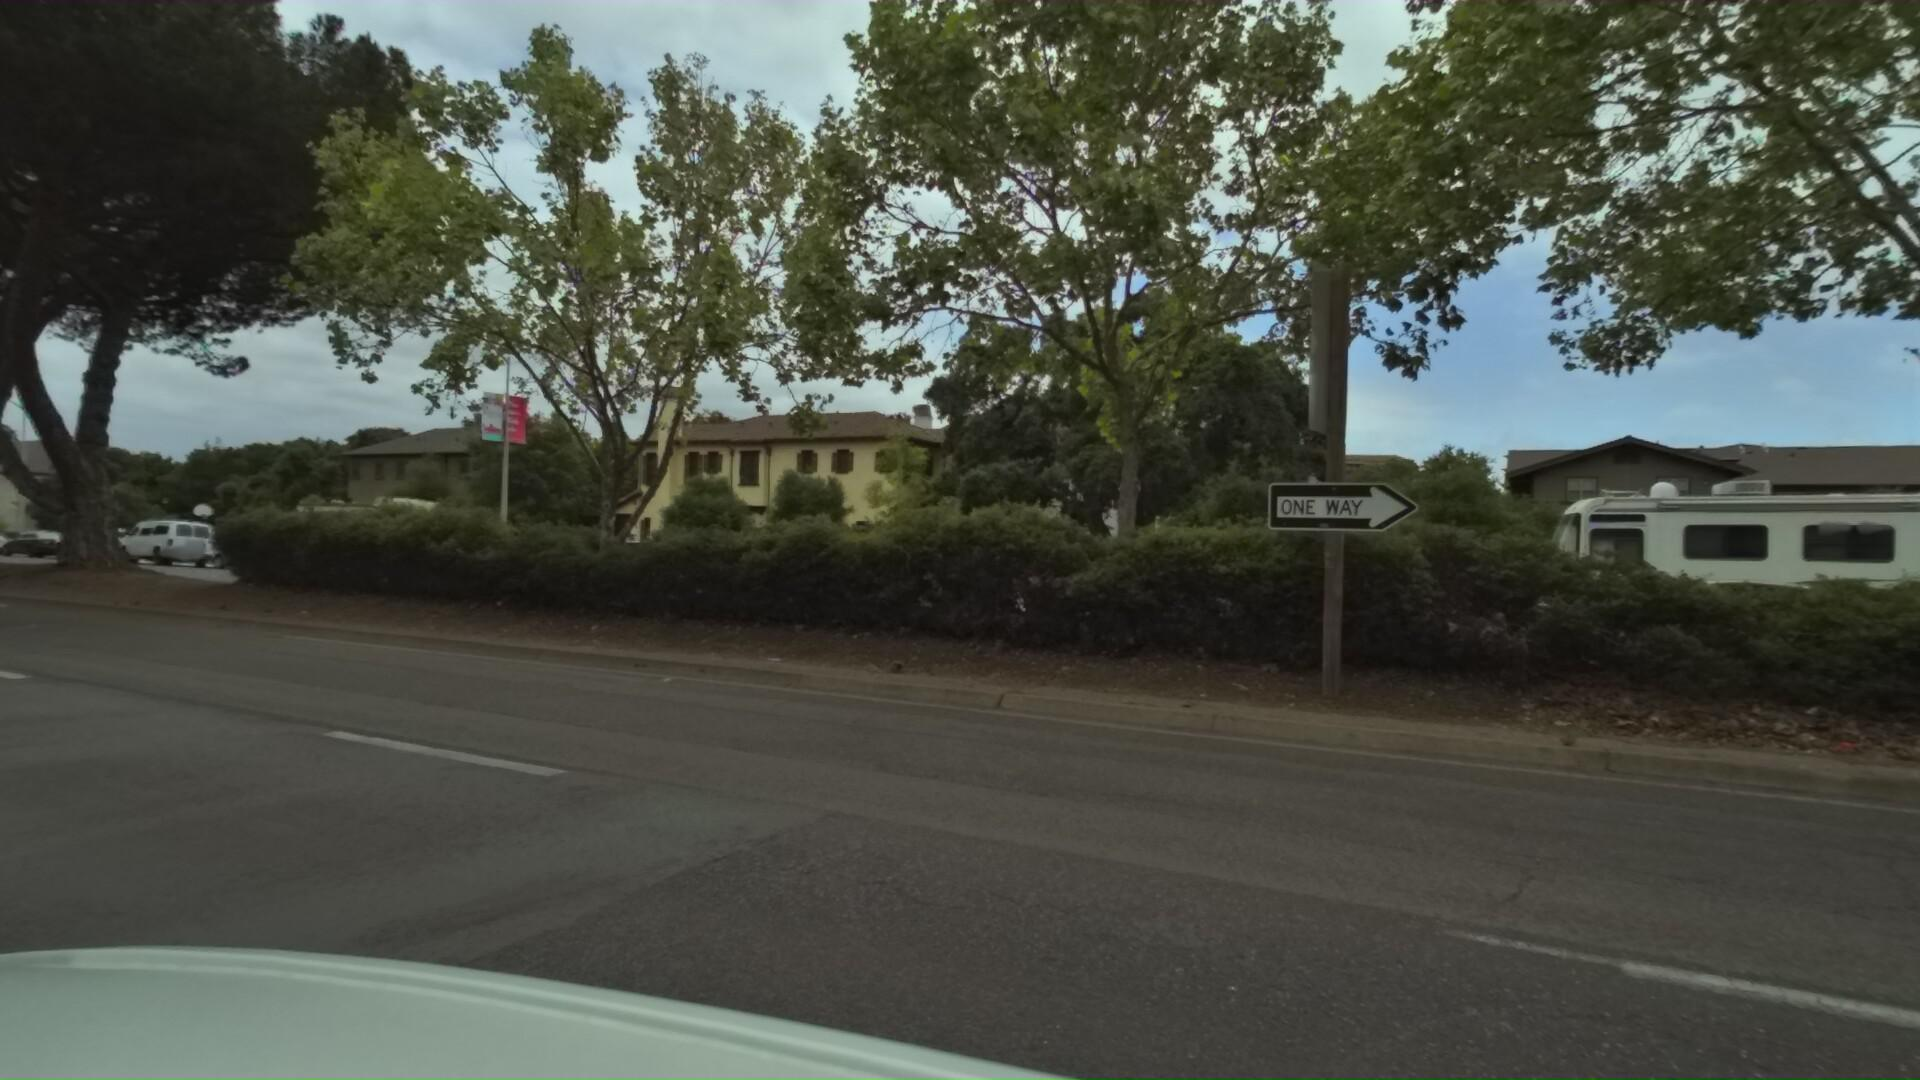car: (107, 514, 220, 568), (44, 520, 154, 566), (196, 529, 306, 572), (0, 524, 79, 560)
other_vehicle: (1480, 436, 1920, 715), (274, 491, 473, 582)
